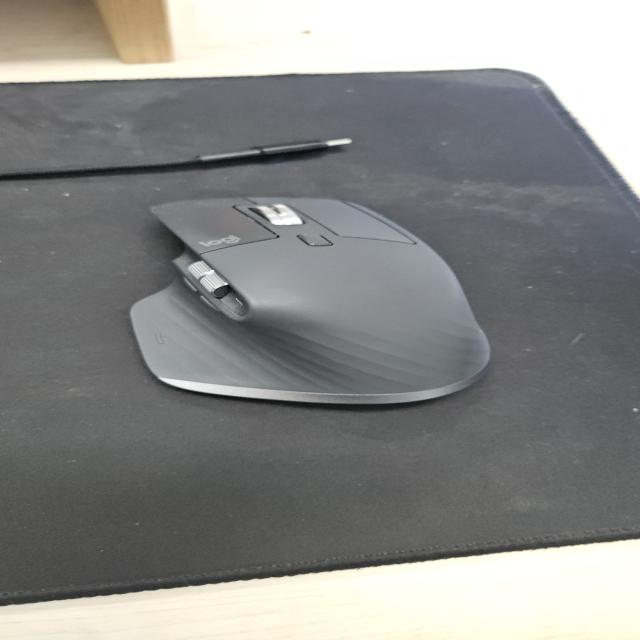Mouse: (127, 194, 496, 406)
